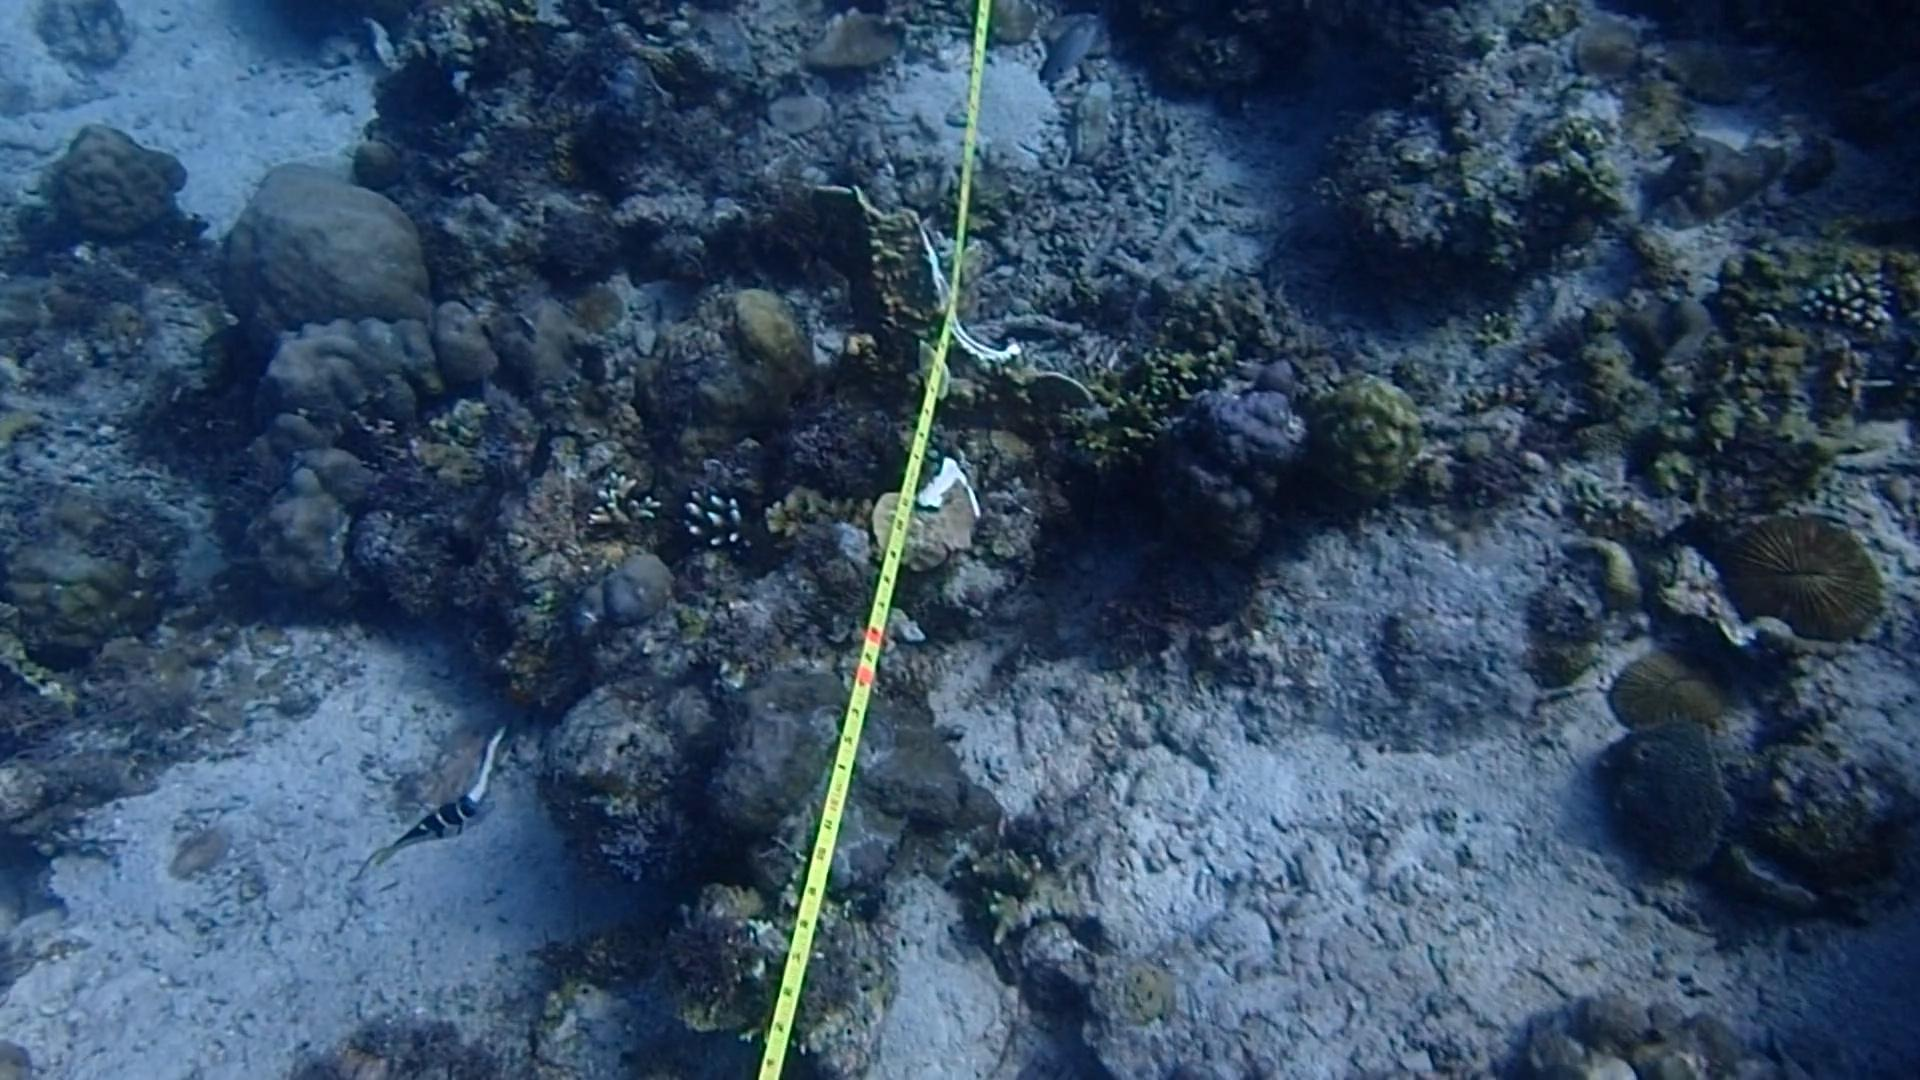Striped Fish: (371, 789, 497, 878)
